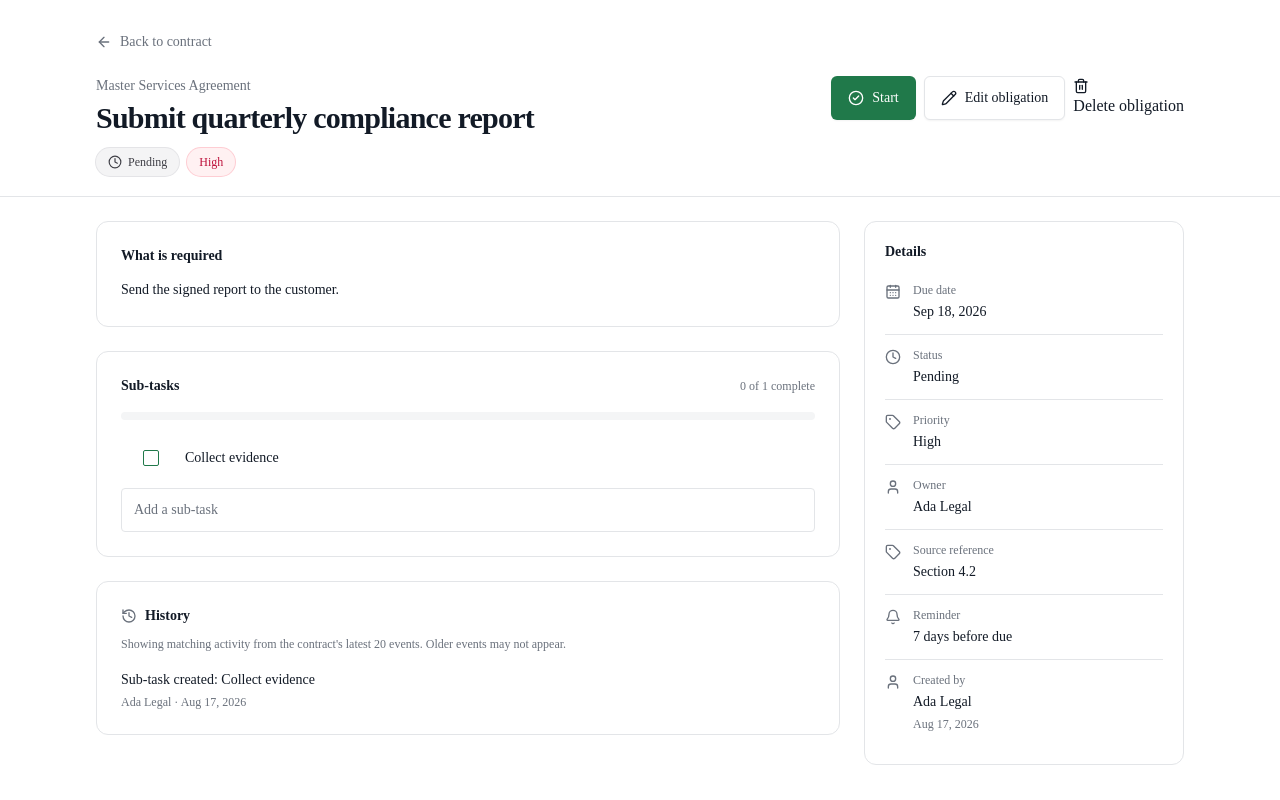
Scenario: obligation detail responsive action surface › preserves a confirmed sub-task when the status response completes aggregate-first
The image size is (1280, 800).
Expected: the heading "Submit quarterly compliance report" is shown, [96,100,534,136]
Click the button "Start": (874, 98) [831,76,916,120]
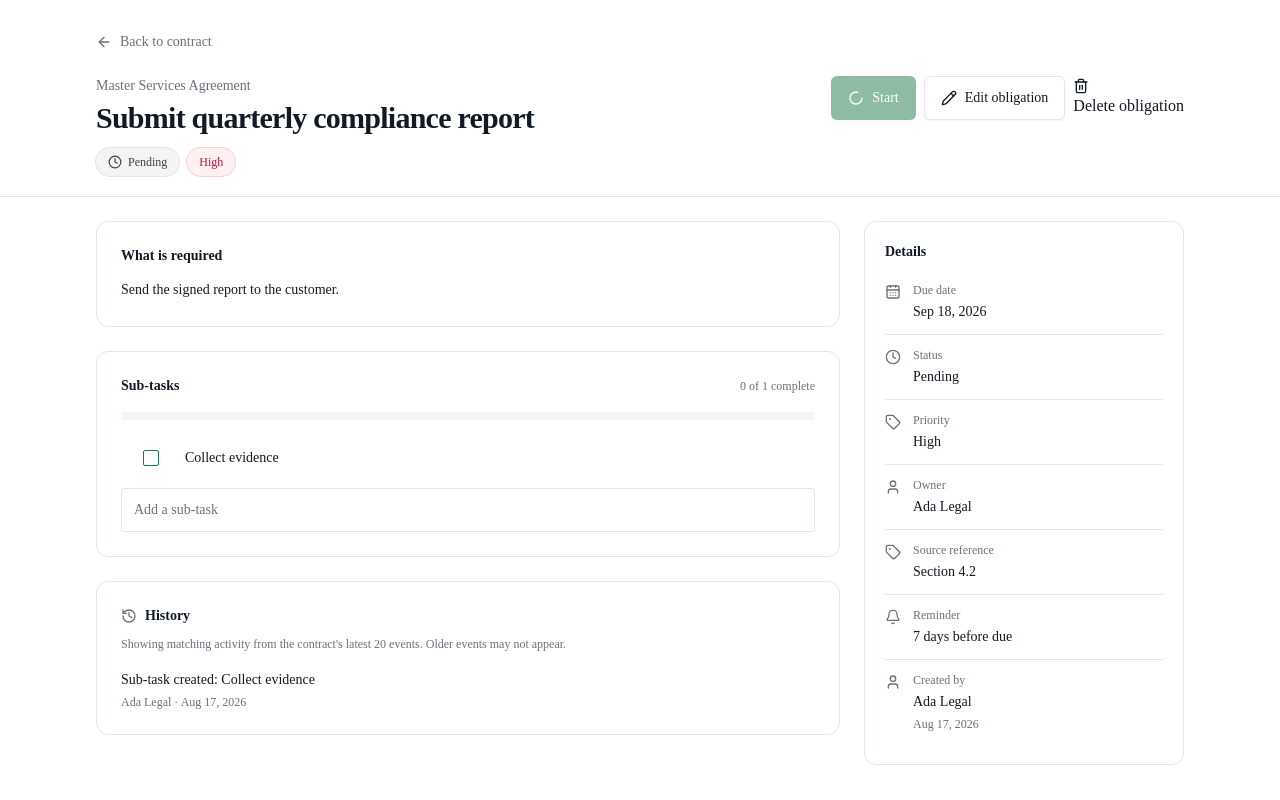
Click the checkbox: (151, 458) [143,450,159,466]
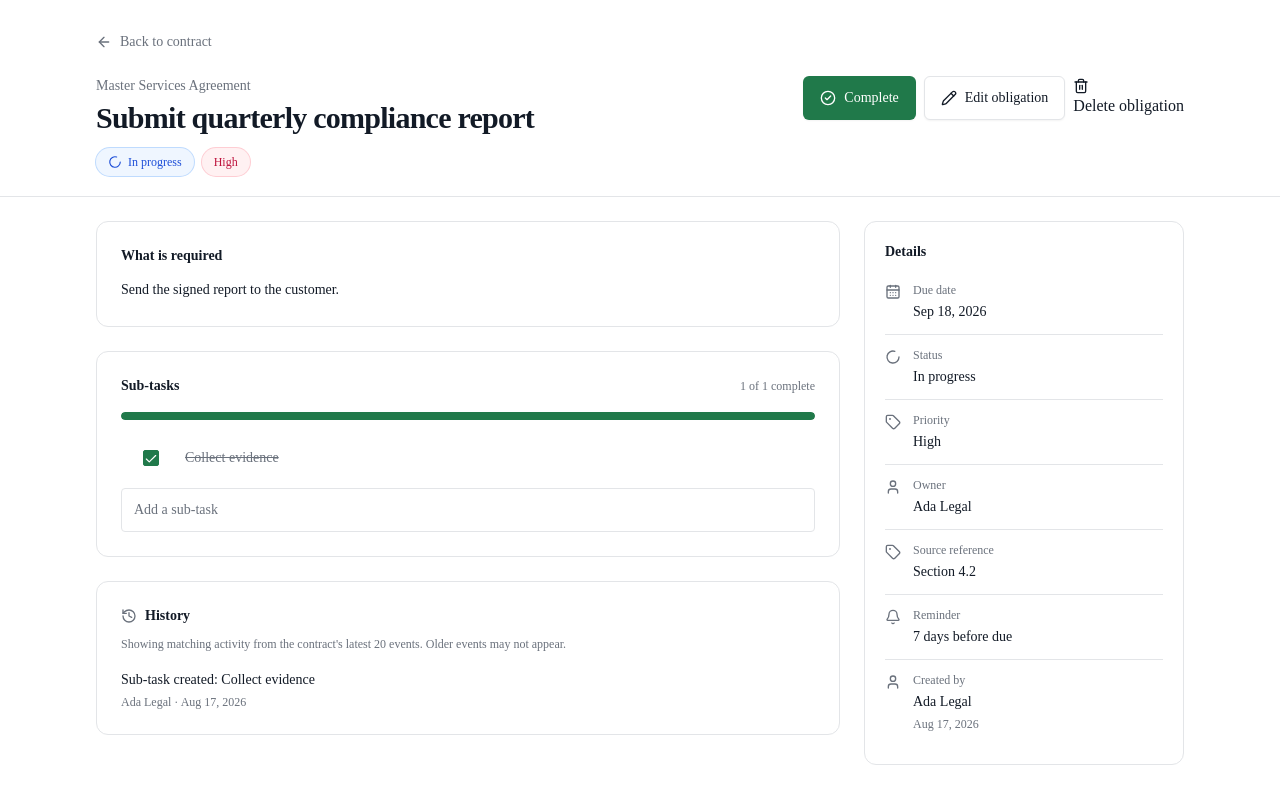
Expected: the checkbox is checked, [143,450,159,466]
Expected: the button "Complete" is shown, [803,76,916,120]
